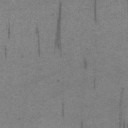red iron: (55, 2, 62, 50), (36, 28, 40, 55), (94, 0, 97, 22), (84, 59, 87, 70), (62, 103, 64, 116), (8, 27, 10, 38)
